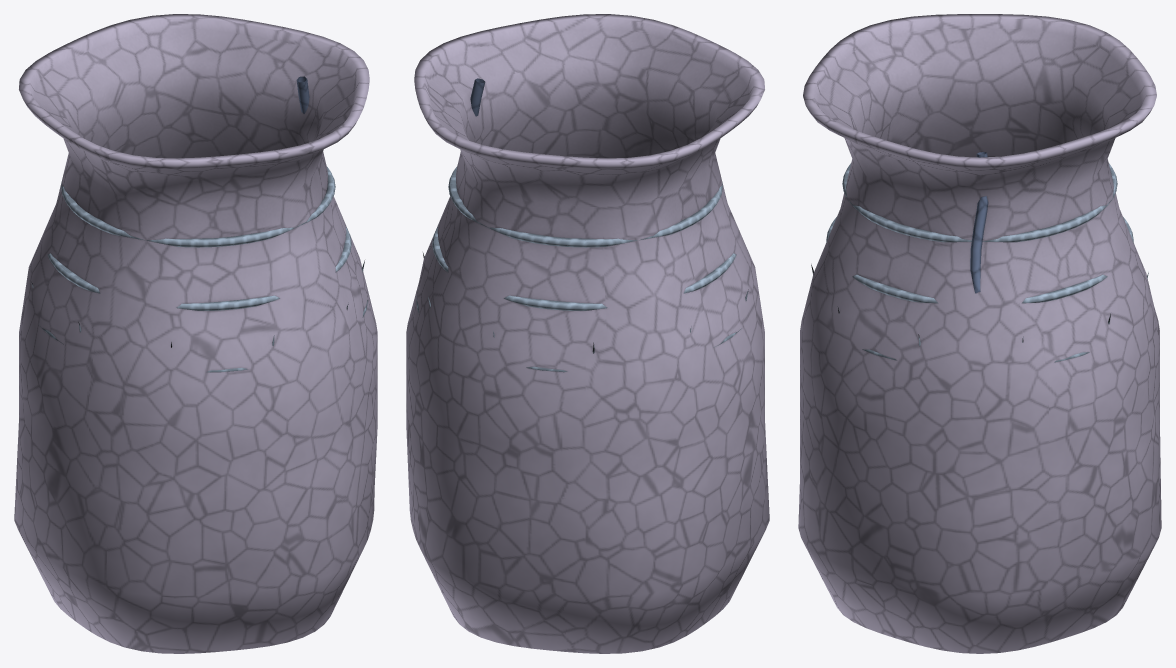
Rendered from landmark_shed_husk.glb.
3 renders of one model, left to right at view 1: azimuth 30°, elevation 25°; view 2: azimuth 150°, elevation 25°; view 3: azimuth 270°, elevation 25°, orthographic.
Visible parts, largest first — view 1: LandmarkShedHusk; view 2: LandmarkShedHusk; view 3: LandmarkShedHusk.
Boxes of the visible parts, left/top/right/bottom form: LandmarkShedHusk: left=14, top=14, right=377, bottom=653; LandmarkShedHusk: left=406, top=14, right=769, bottom=653; LandmarkShedHusk: left=798, top=14, right=1161, bottom=653.
Bounding box in the file's own units: 4.06 × 6.5 × 4.04.
4 materials, 4 textured.
